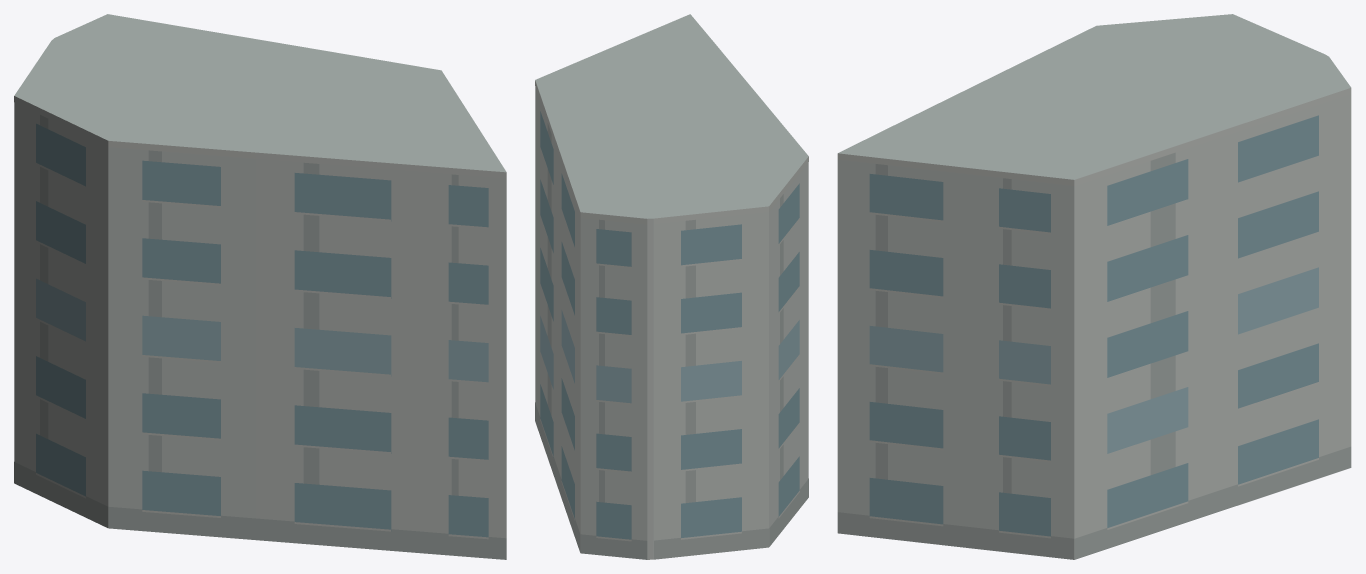
File: residential-a7469bdb-2c04-4870-9946-d9a7a8606108.glb
3 views of the same model, side by side, from view 1: azimuth 30°, elevation 25°; view 2: azimuth 150°, elevation 25°; view 3: azimuth 270°, elevation 25° (orthographic). The views are drawn at different scales.
Parts seen in each view (by area): view 1: residential-a7469bdb-2c04-4870-9946-d9a7a8606108.tmp; view 2: residential-a7469bdb-2c04-4870-9946-d9a7a8606108.tmp; view 3: residential-a7469bdb-2c04-4870-9946-d9a7a8606108.tmp.
Part boxes in pixels (x1,y1,x2,y2): residential-a7469bdb-2c04-4870-9946-d9a7a8606108.tmp: (14, 14, 506, 559); residential-a7469bdb-2c04-4870-9946-d9a7a8606108.tmp: (535, 14, 808, 559); residential-a7469bdb-2c04-4870-9946-d9a7a8606108.tmp: (837, 14, 1351, 559).
Size of the model in its own units: 13.77 by 14.7 by 18.02.
